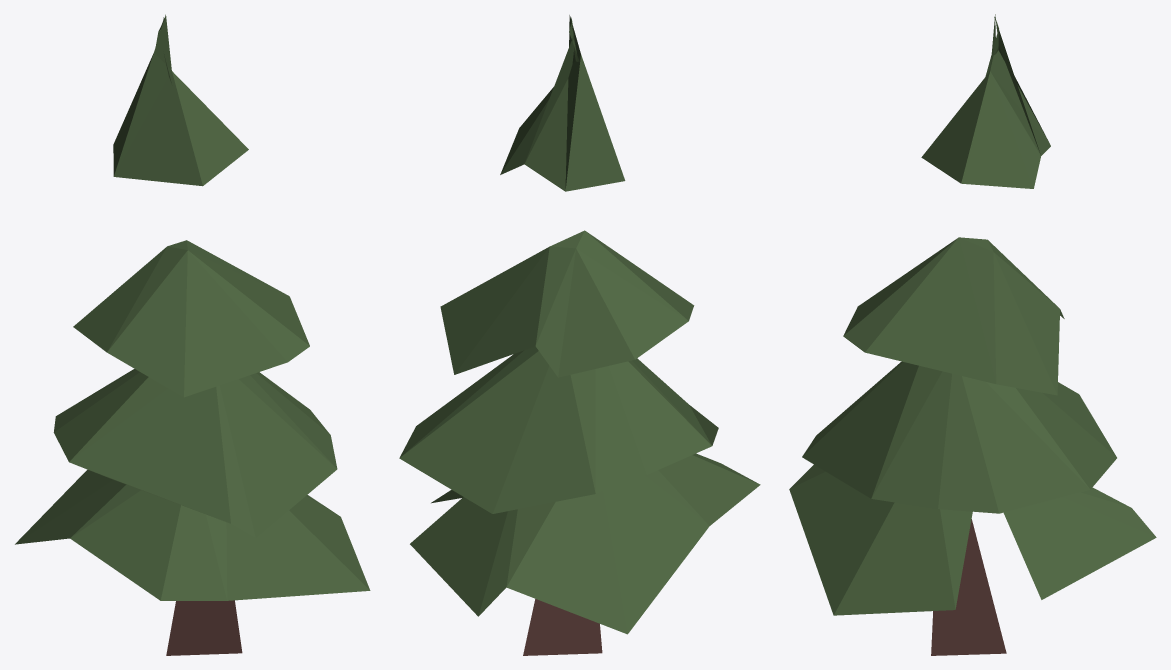
File: dead_tree2_lod.glb
The picture shows the model from 3 angles, left to right: view 1: azimuth 30°, elevation 25°; view 2: azimuth 150°, elevation 25°; view 3: azimuth 270°, elevation 25°; orthographic projection. The views are drawn at different scales.
Visible parts, largest first — view 1: PineTree_2; view 2: PineTree_2; view 3: PineTree_2.
Boxes of the visible parts, x1,y1,x2,y2 form: PineTree_2: (15, 14, 370, 655); PineTree_2: (399, 15, 760, 655); PineTree_2: (789, 14, 1156, 655).
Bounding box in the file's own units: 1.62 × 3.56 × 1.91.
